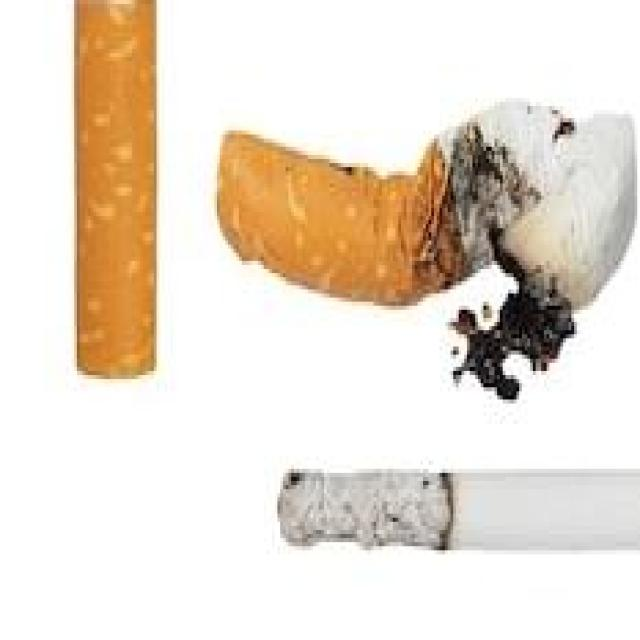-Other waste - cigarette butt-: (217, 104, 631, 356), (72, 0, 166, 392), (279, 462, 640, 561)
